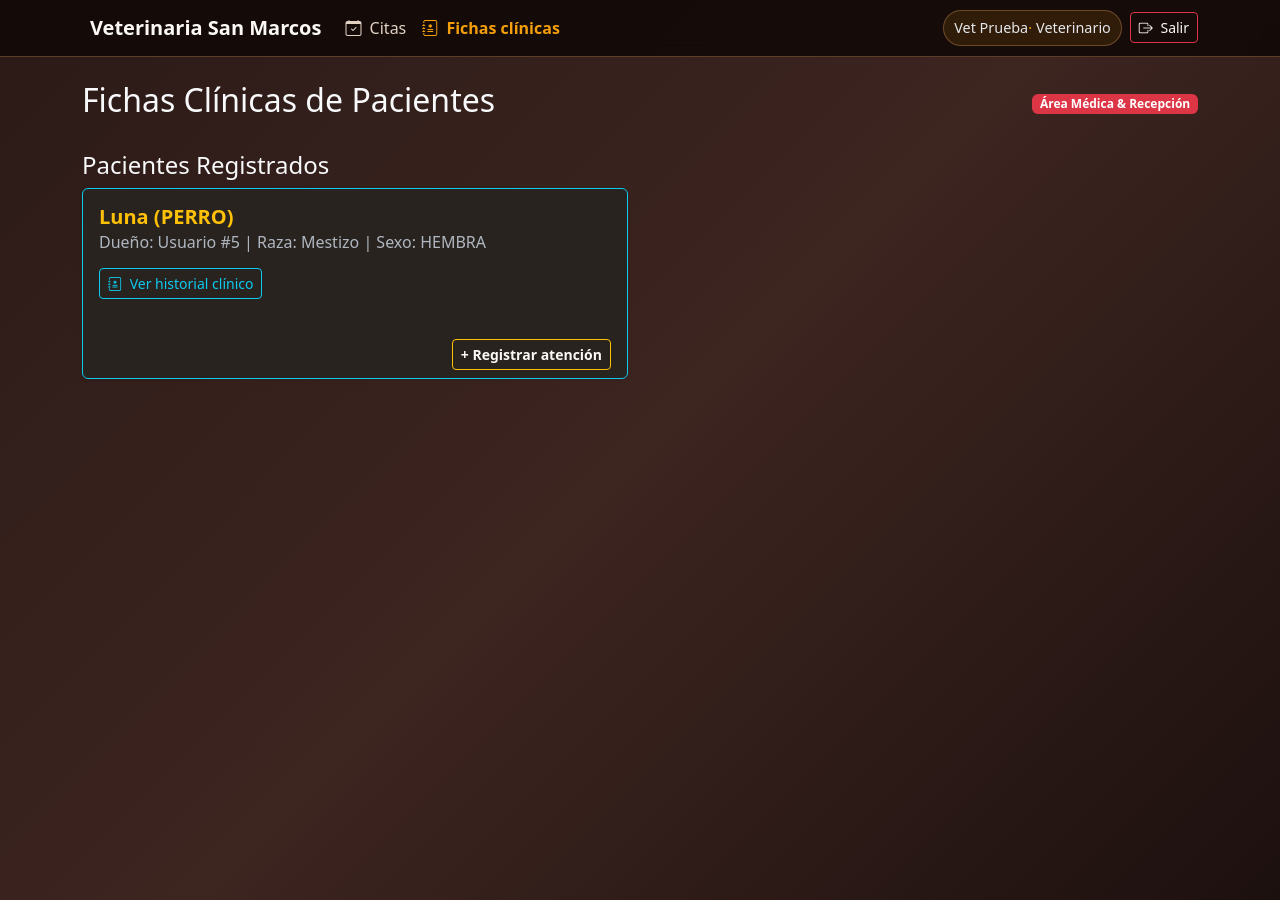
Scenario: Frontend conectado al backend - Veterinaria San Marcos › 9. Un 403 del historial se muestra como mensaje y no se intenta evadir
Click the button "Ver historial clínico".
click(181, 284)  # box top-left (99, 268), bottom-right (262, 299)
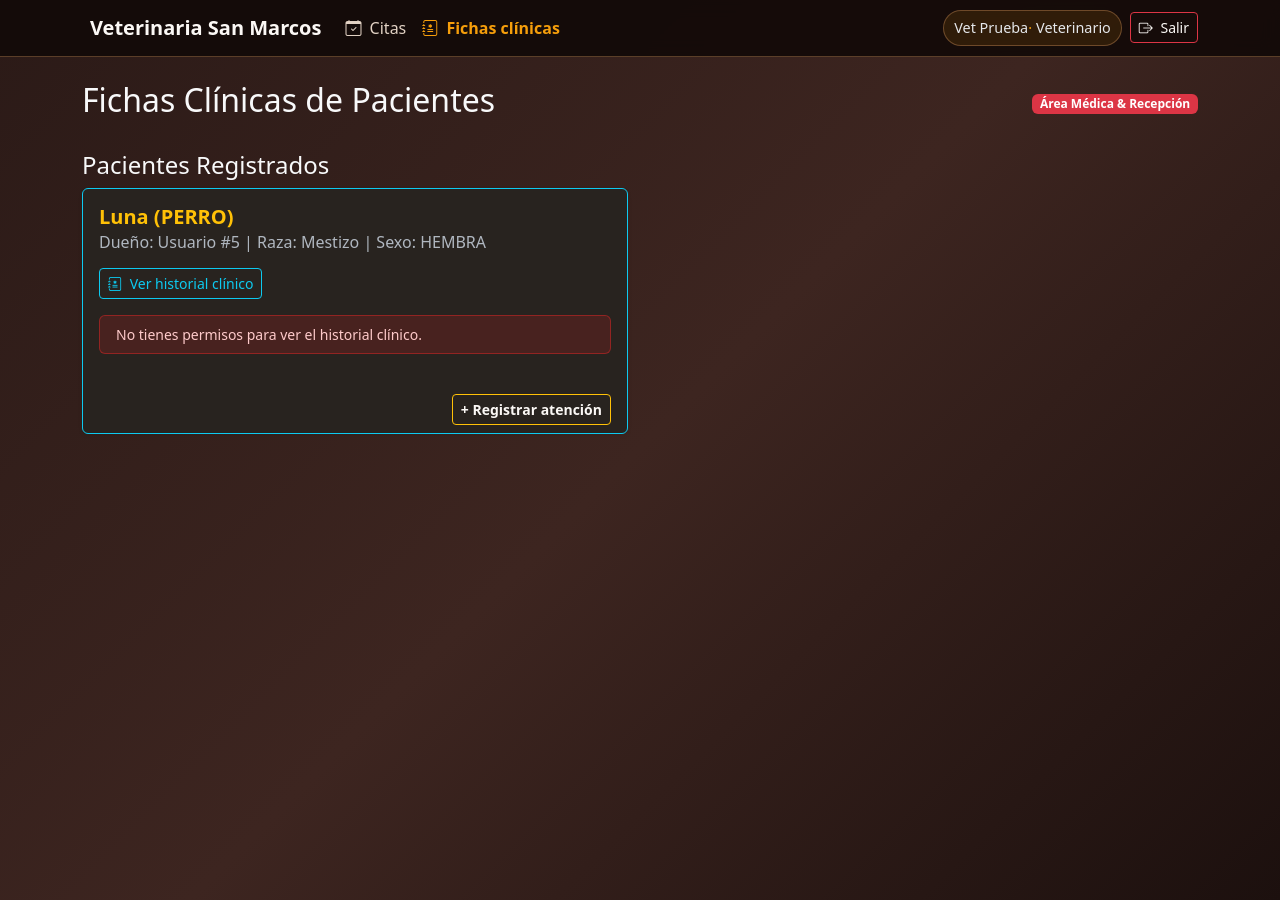
Check: the text "No tienes permisos para ver el historial clínico." is shown, box top-left (99, 315), bottom-right (611, 354)
